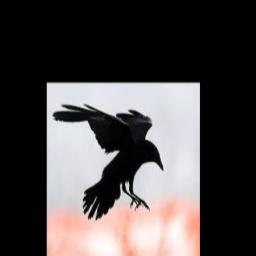Crow: (53, 102, 164, 220)
